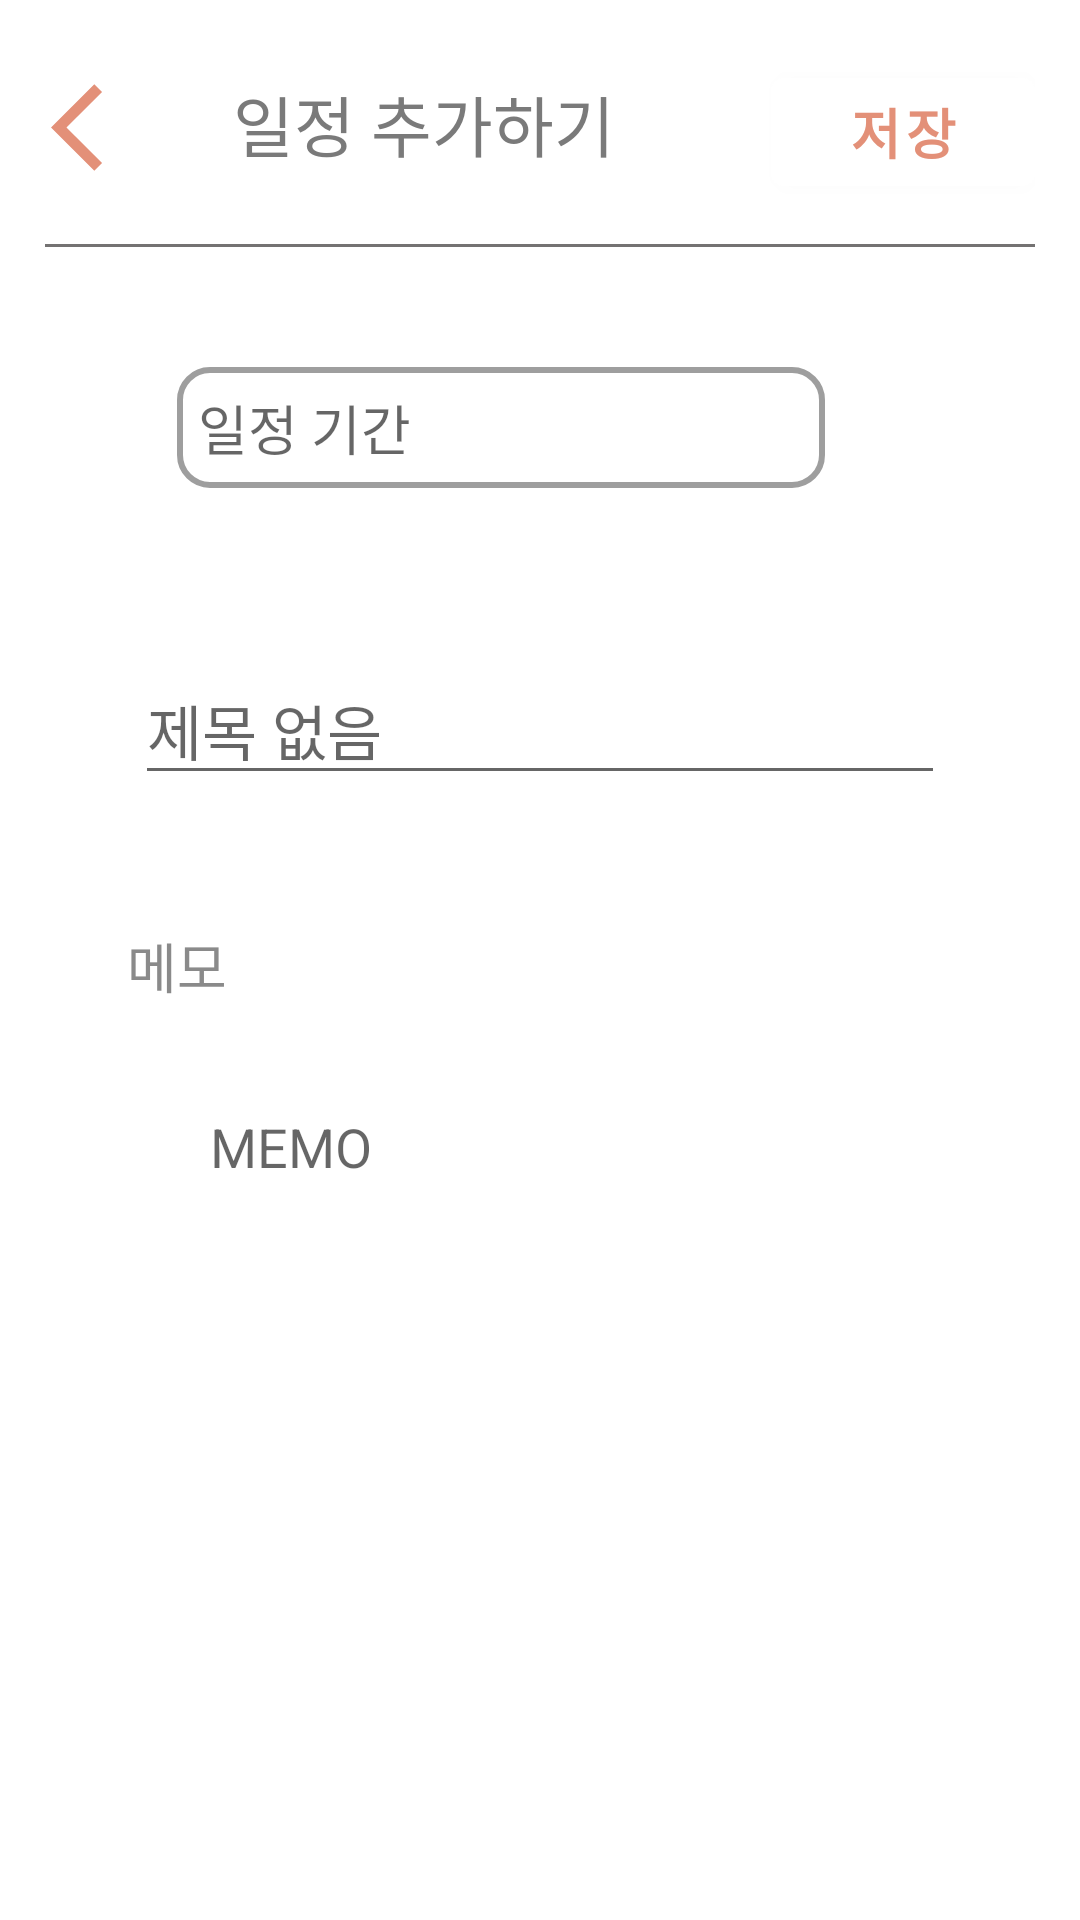

Locate icon controls on the screen. Image size 1080x1920, boxes as (x1, y1, x2, y2).
arrow back: (51, 84, 102, 171)
